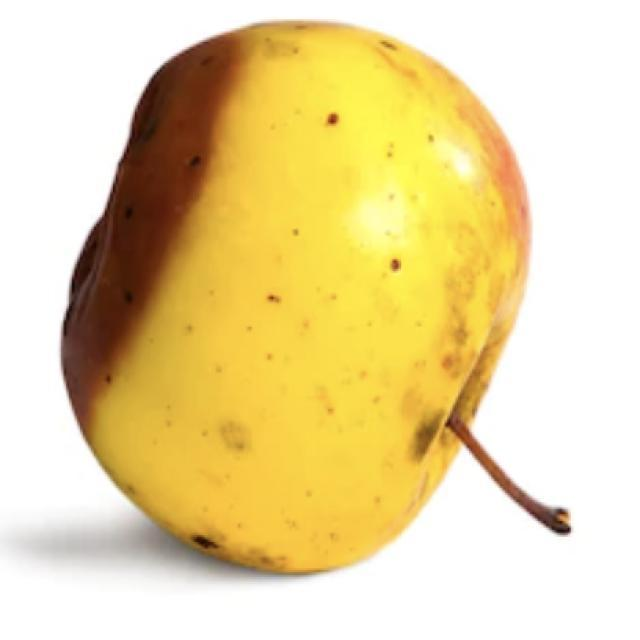Rotten: (86, 33, 546, 565)
